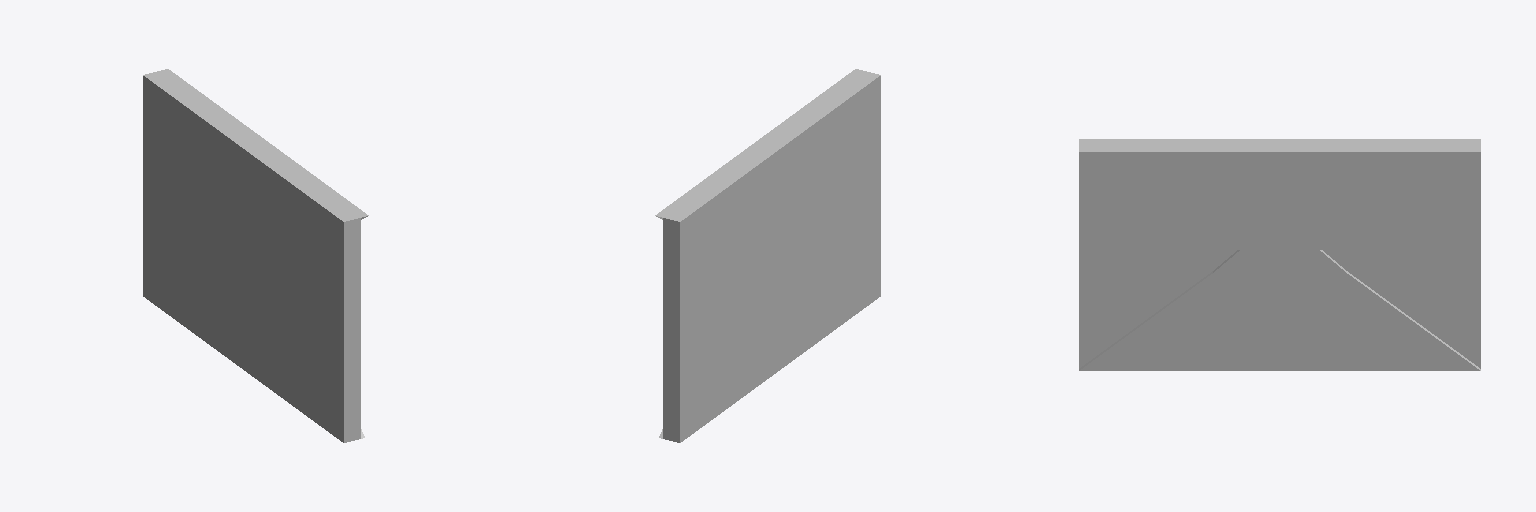
File: FolderMail.obj
3 renders of one model, left to right at view 1: azimuth 30°, elevation 25°; view 2: azimuth 150°, elevation 25°; view 3: azimuth 270°, elevation 25°, orthographic.
Parts seen in each view (by area): view 1: Mail; view 2: Mail; view 3: Mail.
Boxes of the visible parts, box(x1,y1,x2,y2) form: Mail: box(143, 69, 368, 442); Mail: box(655, 69, 880, 442); Mail: box(1079, 139, 1480, 370).
Bounding box in the file's own units: 0.0735 × 0.6075 × 1.